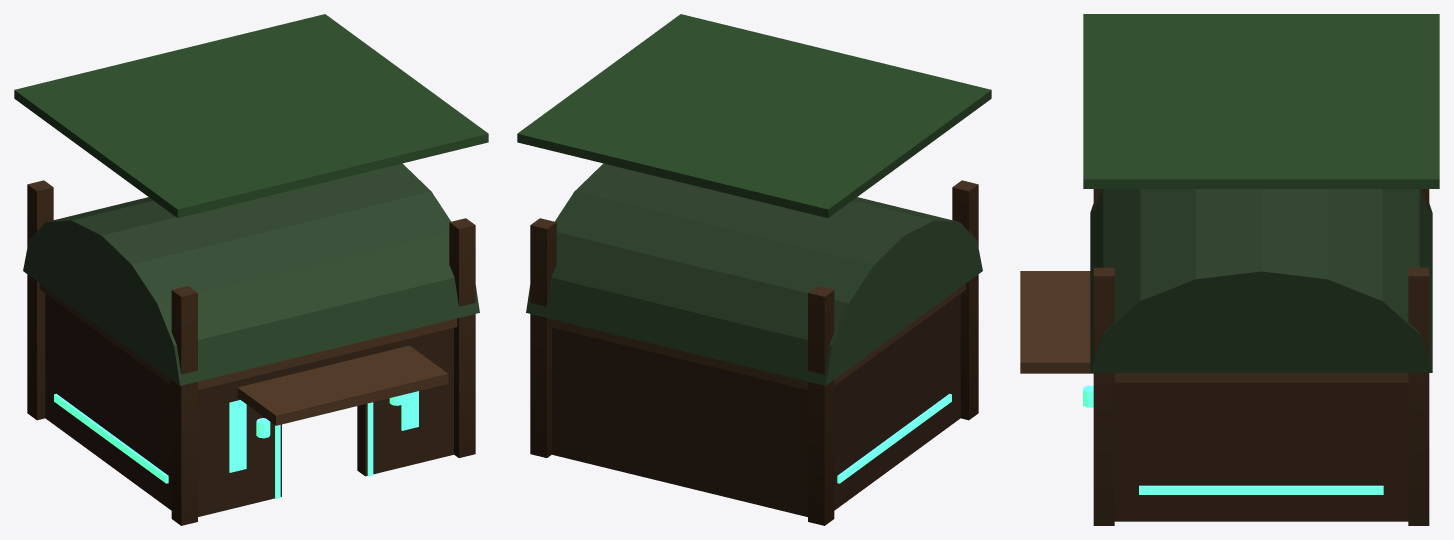
The model's file is shaddai_dist_forest_home_a_v01.glb.
3 views of the same model, side by side, from view 1: azimuth 30°, elevation 25°; view 2: azimuth 150°, elevation 25°; view 3: azimuth 270°, elevation 25° (orthographic). The views are drawn at different scales.
Visible parts, largest first — view 1: shaddai_dist_forest_home_a; view 2: shaddai_dist_forest_home_a; view 3: shaddai_dist_forest_home_a.
Part boxes in pixels (left/top/right/bottom): shaddai_dist_forest_home_a: left=14, top=14, right=488, bottom=525; shaddai_dist_forest_home_a: left=517, top=14, right=991, bottom=525; shaddai_dist_forest_home_a: left=1020, top=14, right=1439, bottom=525.
Size of the model in its own units: 11.2 by 11.08 by 12.
